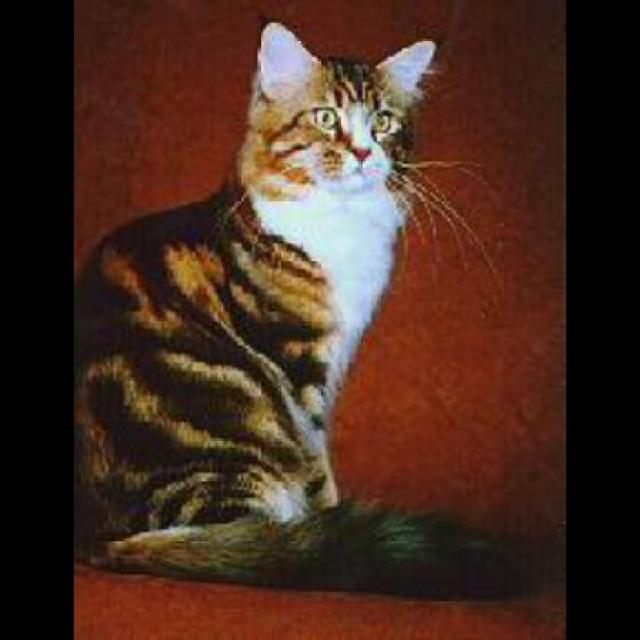unauthorized: (72, 18, 523, 600)
